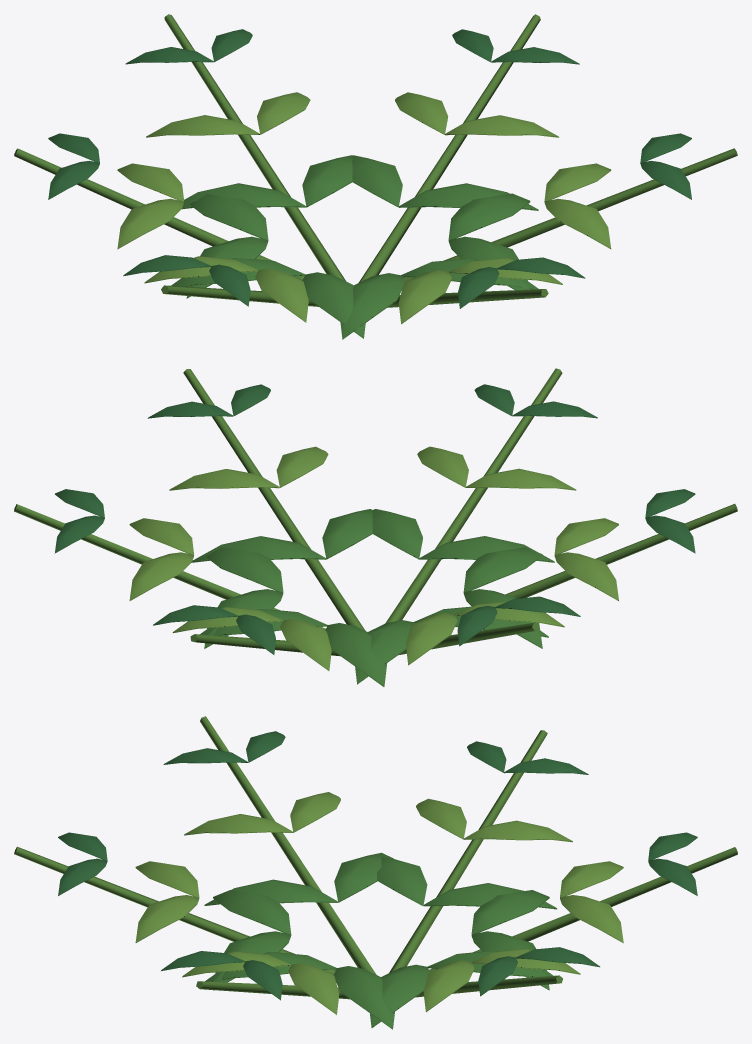
The model's file is fern.glb.
3 renders of one model, top to bottom at view 1: azimuth 30°, elevation 25°; view 2: azimuth 150°, elevation 25°; view 3: azimuth 270°, elevation 25°, orthographic. The views are drawn at different scales.
Parts seen in each view (by area): view 1: fern; view 2: fern; view 3: fern.
Boxes of the visible parts, box(x1,y1,x2,y2) form: fern: box(14, 14, 737, 339); fern: box(14, 368, 737, 686); fern: box(14, 716, 737, 1029).
Size of the model in its own units: 0.8555 by 0.2286 by 0.9779.
